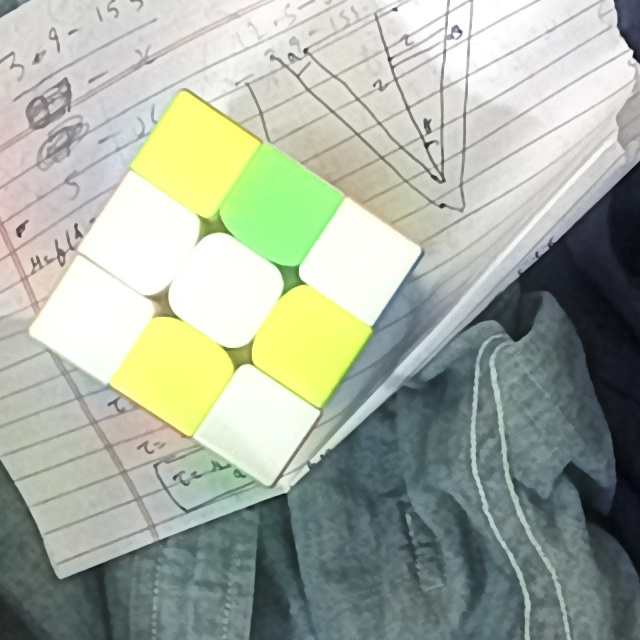tile: (185, 254, 258, 327), (161, 120, 228, 188), (244, 171, 310, 240), (107, 203, 176, 268), (227, 392, 294, 457), (62, 288, 126, 356), (147, 341, 214, 404), (326, 232, 388, 300), (279, 309, 342, 375)
